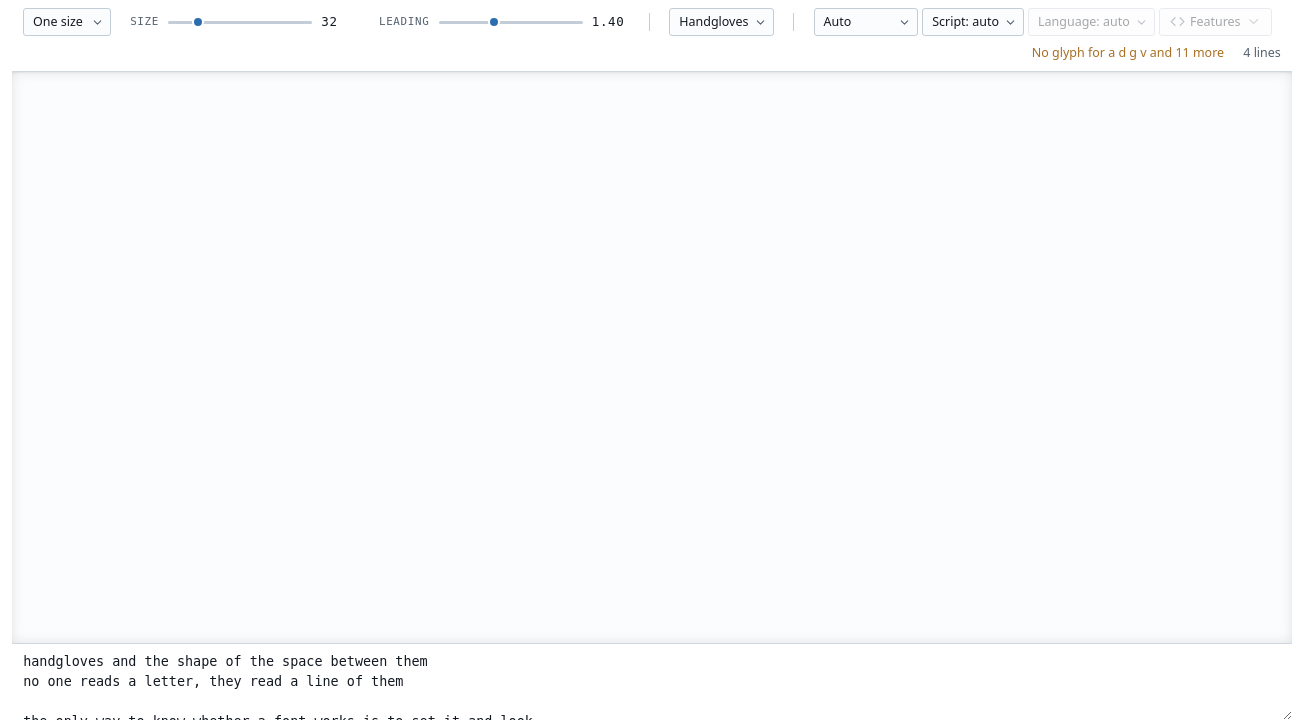
setting the proof › takes its size from the slider
Set the slider named "Type size" to "48": (215, 22) [168,14,312,30]
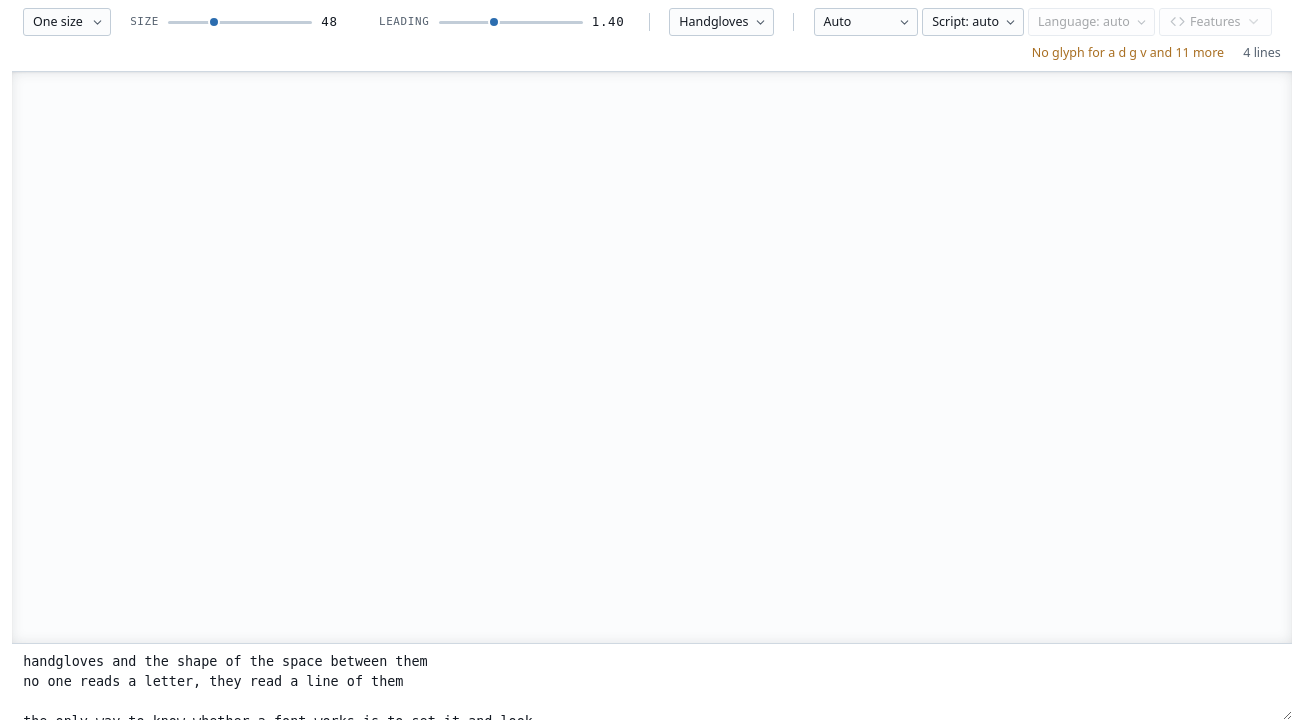
Expected: the text "48" is shown, [321,14,338,29]
